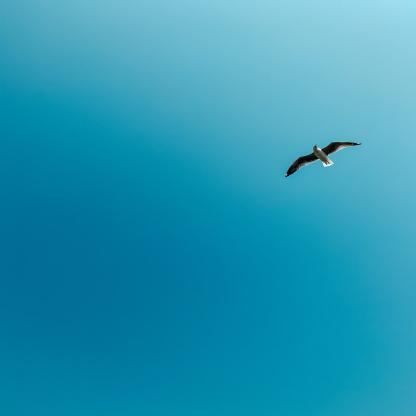bird: (260, 115, 371, 206)
